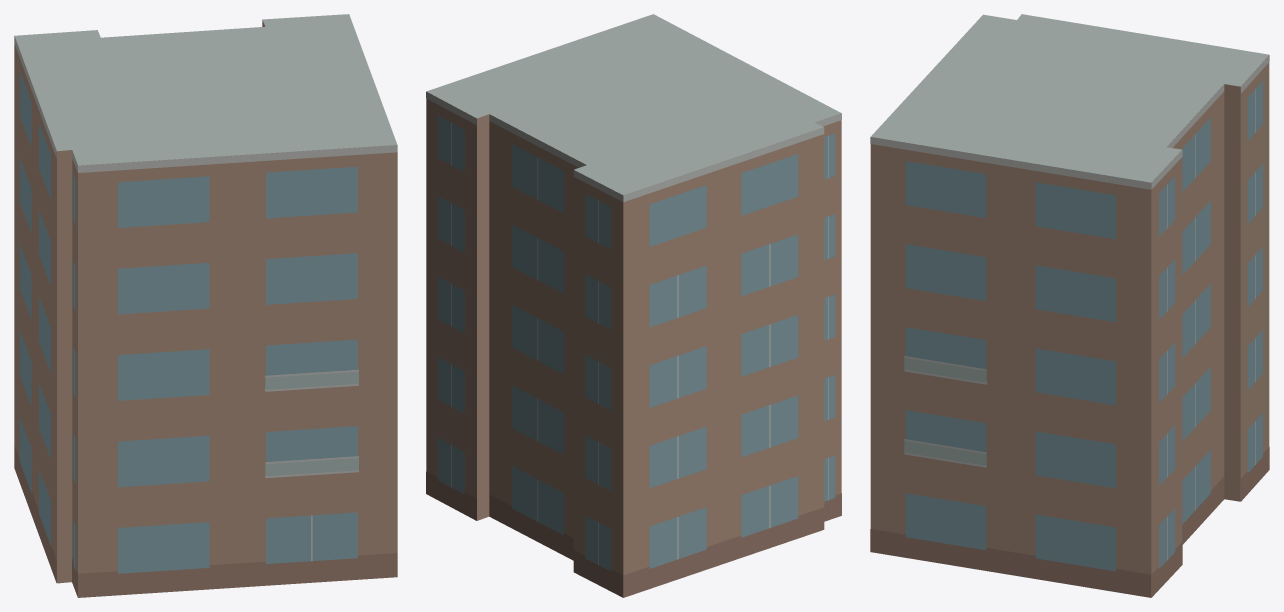
Rendered from survey-upis-32880901.glb.
3 views of the same model, side by side, from view 1: azimuth 30°, elevation 25°; view 2: azimuth 150°, elevation 25°; view 3: azimuth 270°, elevation 25° (orthographic). The views are drawn at different scales.
Visible parts, largest first — view 1: survey-upis-32880901.tmp; view 2: survey-upis-32880901.tmp; view 3: survey-upis-32880901.tmp.
Part boxes in pixels (x1,y1,x2,y2): survey-upis-32880901.tmp: [14, 14, 397, 597]; survey-upis-32880901.tmp: [426, 14, 841, 597]; survey-upis-32880901.tmp: [870, 14, 1269, 597].
Bounding box in the file's own units: 12.47 × 14.3 × 12.46.
